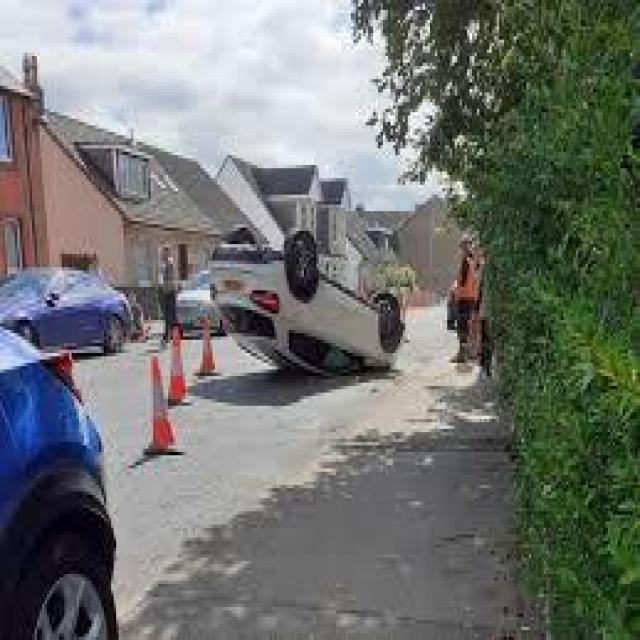severe: (204, 218, 404, 389)
